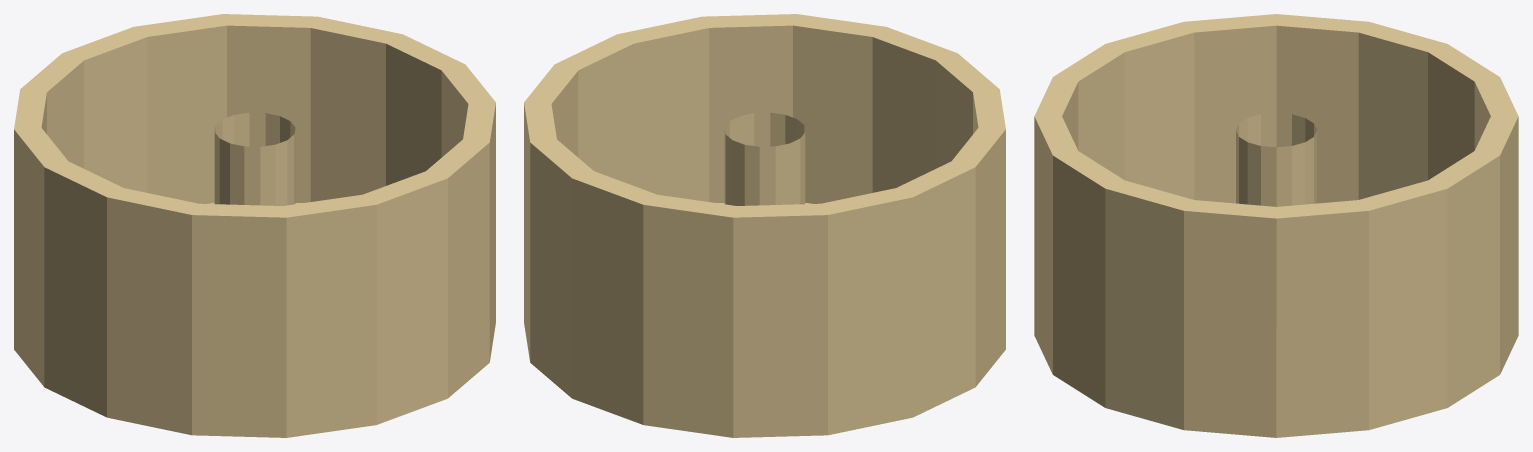
The model's file is Betoniarka- zbiornik.fbx.
3 views of the same model, side by side, from view 1: azimuth 30°, elevation 25°; view 2: azimuth 150°, elevation 25°; view 3: azimuth 270°, elevation 25° (orthographic).
Visible parts, largest first — view 1: Zbiornik; view 2: Zbiornik; view 3: Zbiornik.
Part boxes in pixels (x1,y1,x2,y2): Zbiornik: (14,14,495,437); Zbiornik: (524,14,1005,437); Zbiornik: (1034,14,1518,437).
Bounding box in the file's own units: 200 × 100 × 200.
